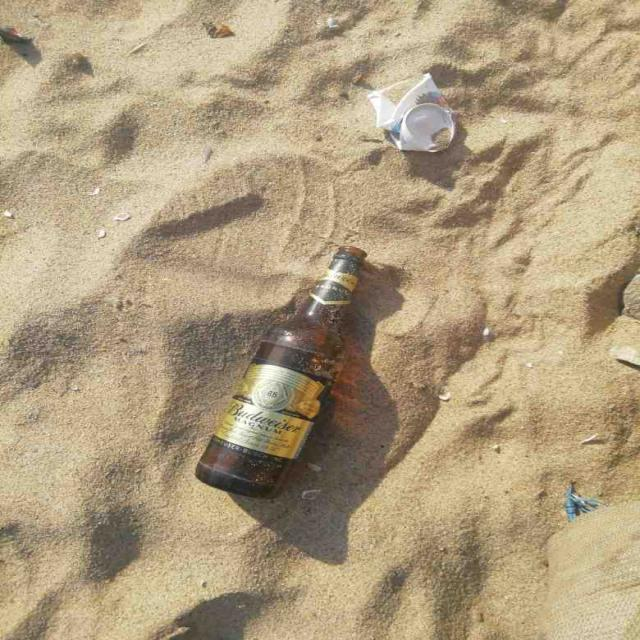chai_thuy_tinh: (196, 246, 367, 498)
ly_hop_giay: (368, 73, 456, 151)
